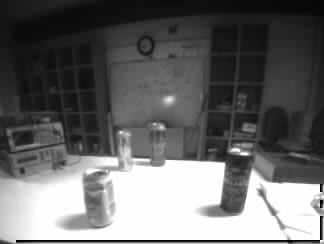Tin can: (220, 147, 251, 213), (83, 167, 117, 226), (149, 122, 165, 166), (116, 130, 133, 170)
